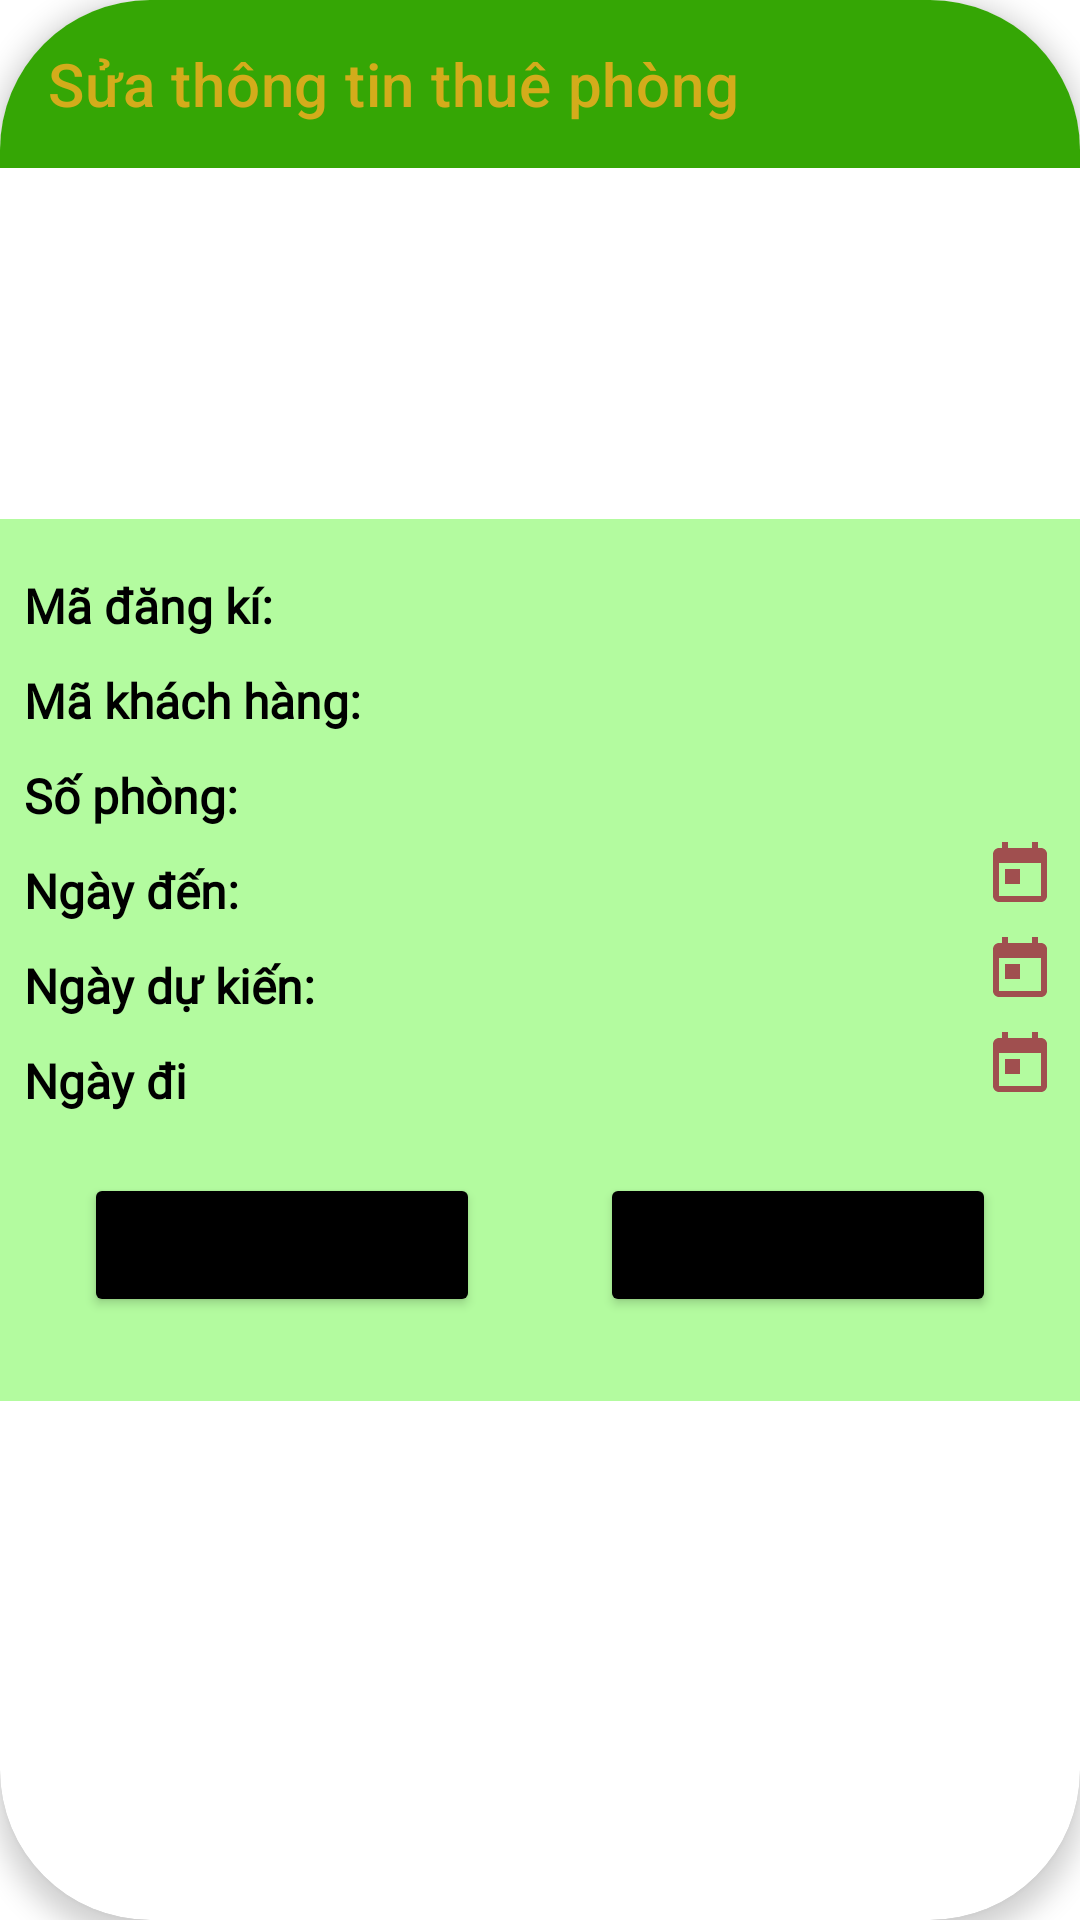

Where to tap for icons on this 1080x1920 app screen, as [x,y]:
today: [1020,872], [1020,967], [1020,1062]
